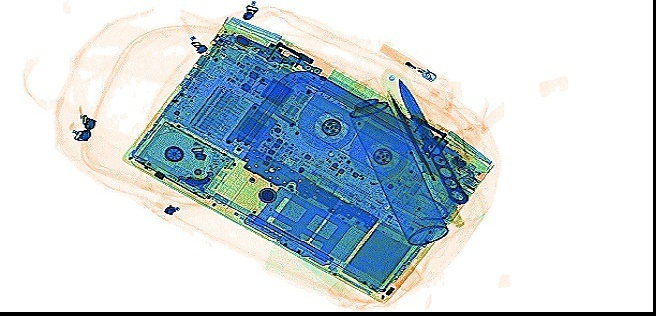knife: (384, 88, 464, 226), (395, 76, 468, 204)
lighter: (376, 42, 437, 81)
pressure: (339, 74, 449, 246)
